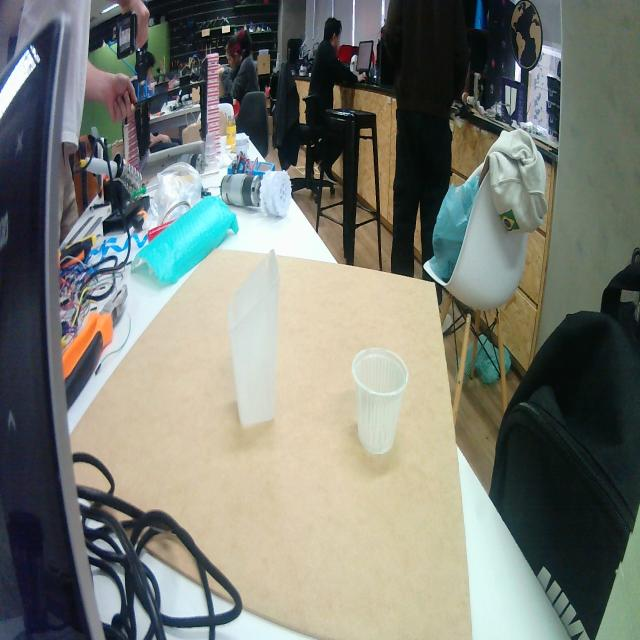erva_daninha: (226, 245, 281, 430)
planta: (352, 347, 409, 458)
